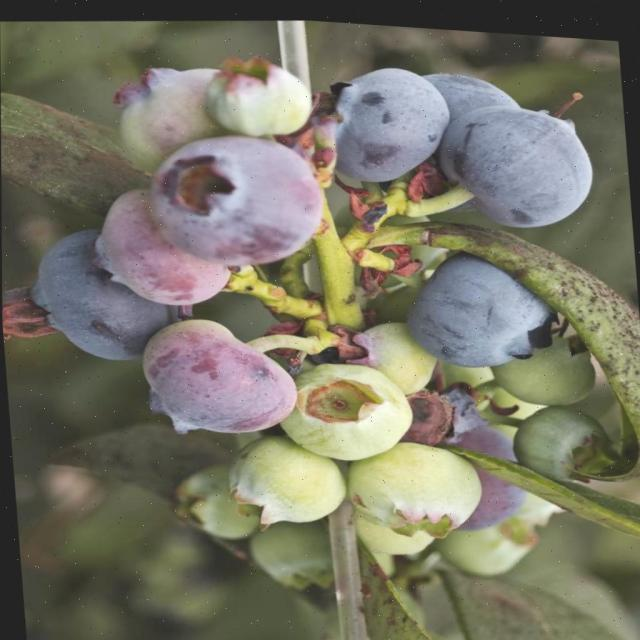RipeBlueBerry: (316, 49, 458, 190), (449, 93, 598, 225), (410, 246, 549, 366)
Semi-RipeBlueBerry: (148, 122, 331, 270), (132, 308, 295, 440)
UnripeBlueBerry: (348, 432, 488, 535), (286, 354, 414, 458), (224, 432, 345, 526), (206, 46, 308, 134)
